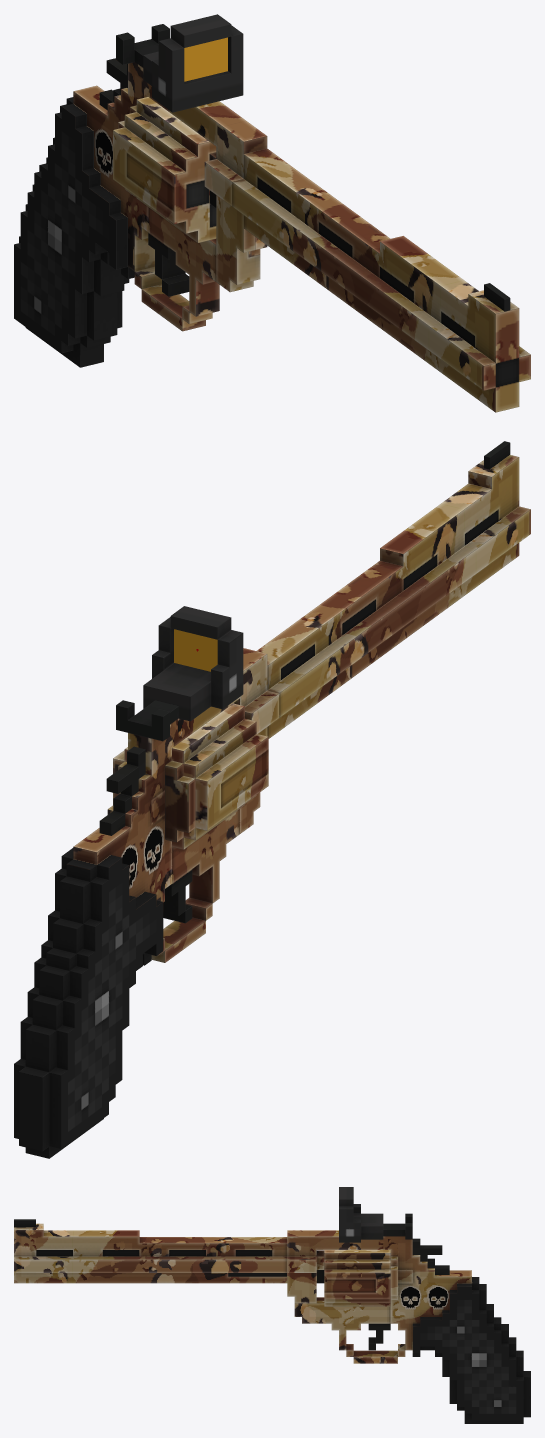
Rendered from RD_ANACONDA_DESERT_STORM.glb.
The picture shows the model from 3 angles, top to bottom: view 1: azimuth 30°, elevation 25°; view 2: azimuth 150°, elevation 25°; view 3: azimuth 270°, elevation 25°; orthographic projection. The views are drawn at different scales.
Visible parts, largest first — view 1: ANACONDA, ANACONDA_CLIP_P1, SCOPE_TRIJICON, ANACONDA_TRIGGER; view 2: ANACONDA, SCOPE_TRIJICON, ANACONDA_CLIP_P1, ANACONDA_TRIGGER; view 3: ANACONDA, ANACONDA_CLIP_P1, SCOPE_TRIJICON, ANACONDA_CLIP_P2, ANACONDA_TRIGGER.
Boxes of the visible parts, <box> form: ANACONDA: <box>14,24,530,412</box>; ANACONDA_CLIP_P1: <box>113,97,216,242</box>; SCOPE_TRIJICON: <box>143,14,243,112</box>; ANACONDA_TRIGGER: <box>99,58,127,110</box>; ANACONDA: <box>14,441,530,1158</box>; SCOPE_TRIJICON: <box>143,606,243,721</box>; ANACONDA_CLIP_P1: <box>113,703,268,849</box>; ANACONDA_TRIGGER: <box>99,746,145,835</box>; ANACONDA: <box>14,1213,530,1423</box>; ANACONDA_CLIP_P1: <box>316,1250,390,1306</box>; SCOPE_TRIJICON: <box>339,1187,383,1242</box>; ANACONDA_CLIP_P2: <box>228,1273,316,1303</box>; ANACONDA_TRIGGER: <box>412,1238,449,1274</box>.
Bounding box in the file's own units: 0.0787 × 0.3346 × 0.689.
3 materials, 3 textured.
